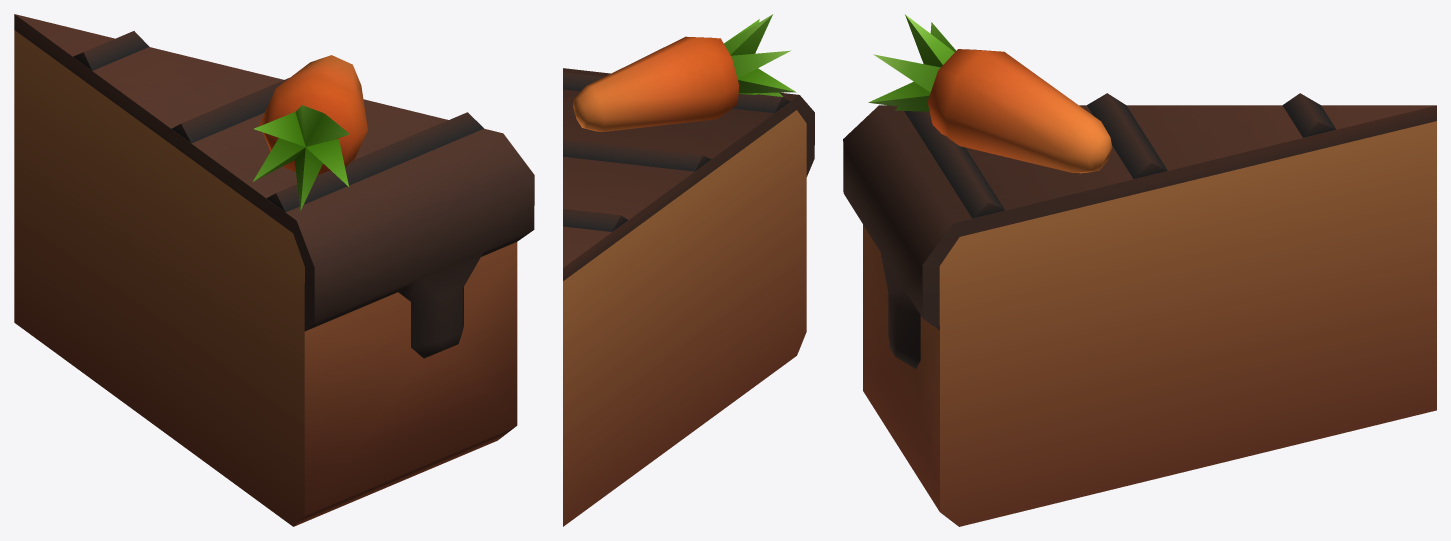
Rendered from m_CarrotCake02_Slice03.fbx.
3 renders of one model, left to right at view 1: azimuth 30°, elevation 25°; view 2: azimuth 150°, elevation 25°; view 3: azimuth 270°, elevation 25°, orthographic. The views are drawn at different scales.
Visible parts, largest first — view 1: m_CarrotCake02_Slice03; view 2: m_CarrotCake02_Slice03; view 3: m_CarrotCake02_Slice03.
Boxes of the visible parts, x1,y1,x2,y2 form: m_CarrotCake02_Slice03: (14,14,534,526); m_CarrotCake02_Slice03: (563,14,814,526); m_CarrotCake02_Slice03: (843,14,1436,526).
Size of the model in its own units: 7.81 by 10.91 by 14.48.
